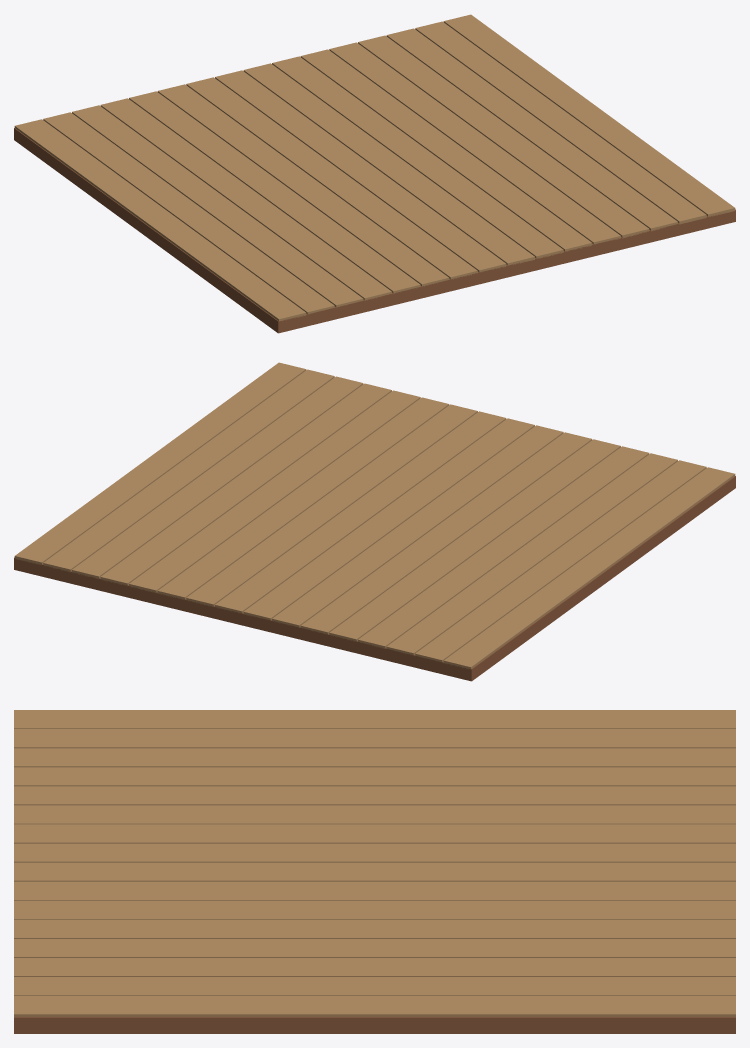
The model's file is rooftop-teak-deck.glb.
The picture shows the model from 3 angles, top to bottom: view 1: azimuth 30°, elevation 25°; view 2: azimuth 150°, elevation 25°; view 3: azimuth 270°, elevation 25°; orthographic projection. The views are drawn at different scales.
Visible parts, largest first — view 1: rooftop-teak-deck / Teak.001, rooftop-teak-deck / Oak endgrain.004; view 2: rooftop-teak-deck / Teak.001, rooftop-teak-deck / Oak endgrain.004; view 3: rooftop-teak-deck / Teak.001, rooftop-teak-deck / Oak endgrain.004.
Boxes of the visible parts, x1,y1,x2,y2 form: rooftop-teak-deck / Teak.001: (14,14,735,321); rooftop-teak-deck / Oak endgrain.004: (14,128,735,333); rooftop-teak-deck / Teak.001: (14,362,735,669); rooftop-teak-deck / Oak endgrain.004: (14,476,735,681); rooftop-teak-deck / Teak.001: (14,710,735,1016); rooftop-teak-deck / Oak endgrain.004: (14,1017,735,1033).
Size of the model in its own units: 4 by 0.1175 by 4.
